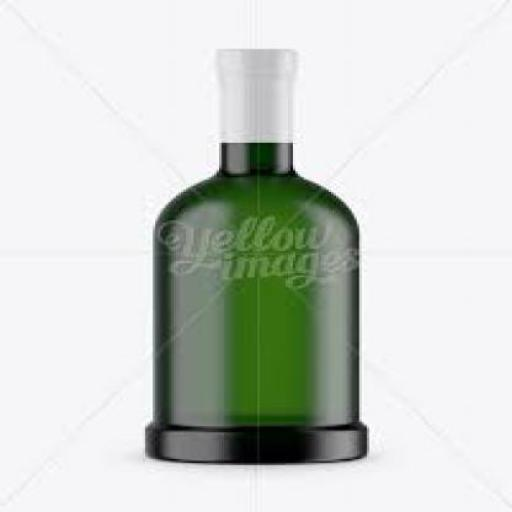glass: (140, 47, 367, 463)
plastic: (211, 44, 299, 143)
